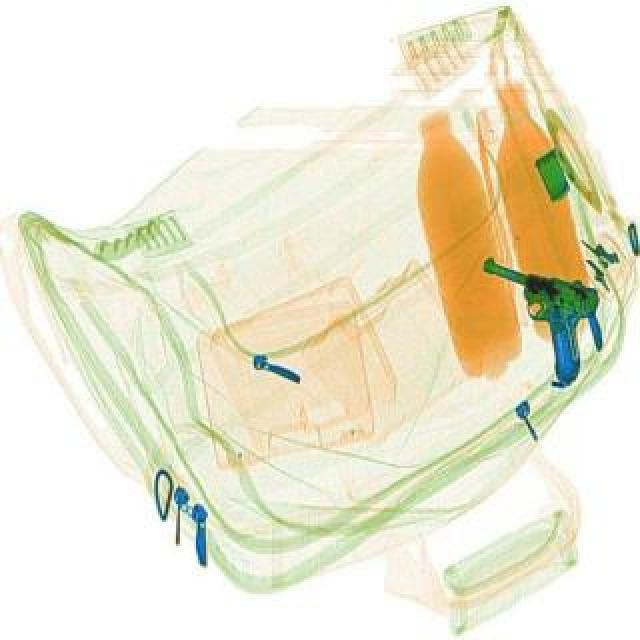gun: (450, 254, 606, 394)
